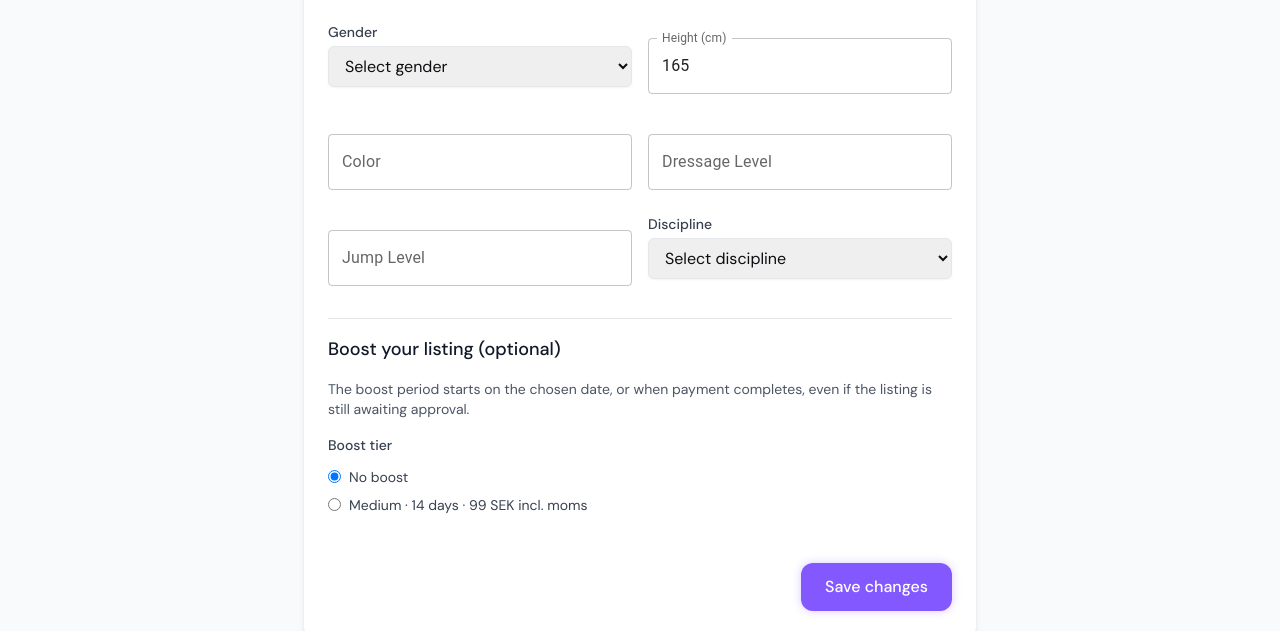
Scenario: EditProduct › shows the save error from the server
(page scrolled)
Expected: the radio button labelled "Medium · 14 days · 99 SEK incl. moms" is shown, top-left (328, 498), bottom-right (341, 511)
Click the button "Save changes" at {"x": 877, "y": 586}, box top-left (801, 562), bottom-right (952, 610)
(page scrolled)
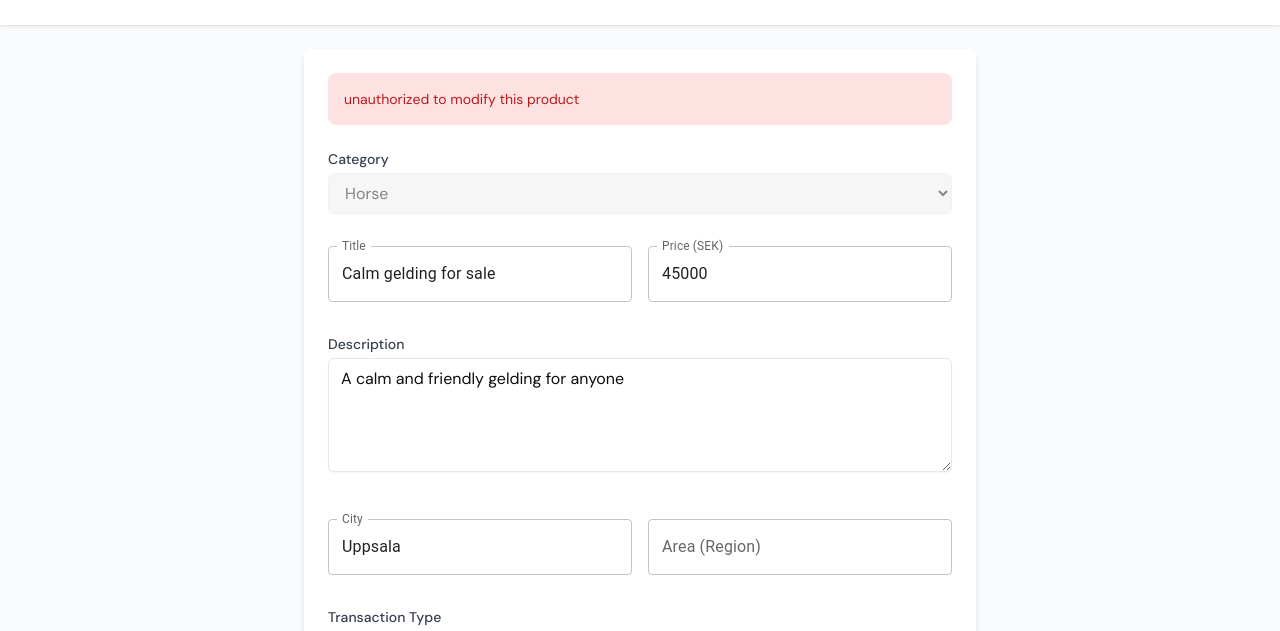
Expected: the message reads "unauthorized to modify this product", top-left (344, 90), bottom-right (579, 108)
